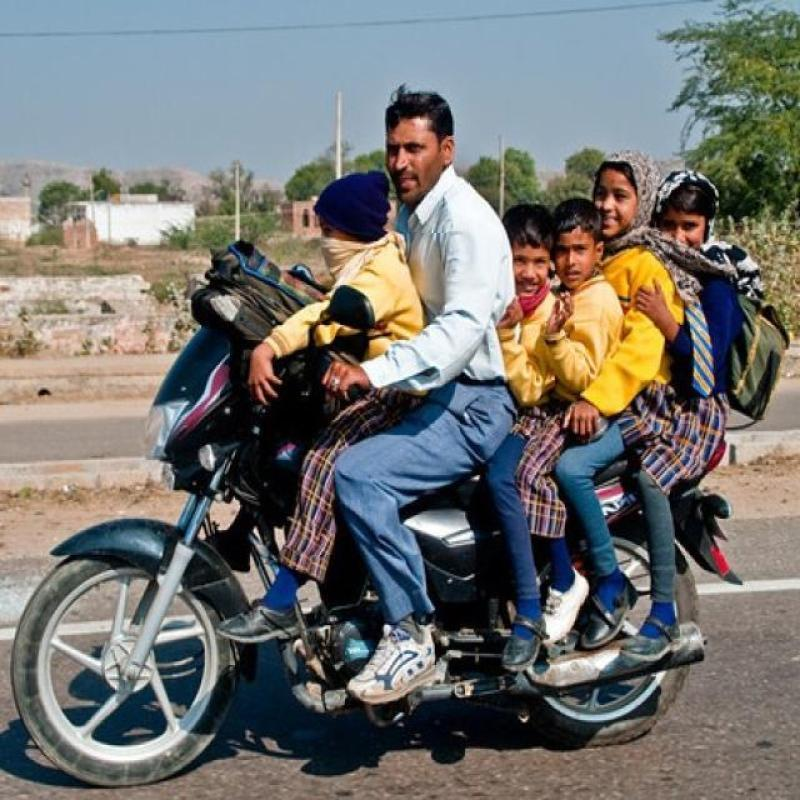nohelmet: (368, 64, 472, 234), (572, 131, 672, 270)
